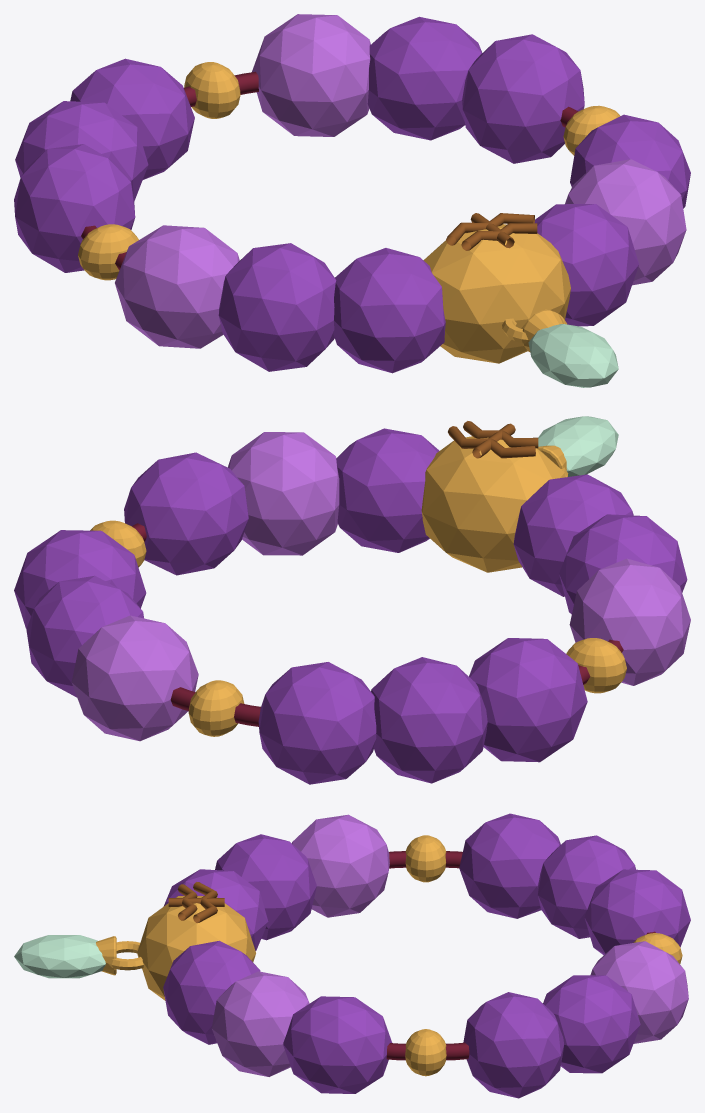
Rendered from bracelet.glb.
The picture shows the model from 3 angles, top to bottom: view 1: azimuth 30°, elevation 25°; view 2: azimuth 150°, elevation 25°; view 3: azimuth 270°, elevation 25°; orthographic projection. The views are drawn at different scales.
Visible parts, largest first — view 1: bead-system, spacer-system, pale-jade-charm, focal-cloud-relief, elastic-cord, charm-cap; view 2: bead-system, spacer-system, pale-jade-charm, focal-cloud-relief, elastic-cord; view 3: bead-system, spacer-system, pale-jade-charm, focal-cloud-relief, elastic-cord, charm-loop, charm-cap.
Part boxes in pixels (bbox=[...]): bead-system: bbox=[14, 14, 690, 373]; spacer-system: bbox=[78, 62, 620, 280]; pale-jade-charm: bbox=[528, 324, 618, 387]; focal-cloud-relief: bbox=[446, 213, 537, 250]; elastic-cord: bbox=[81, 71, 578, 270]; charm-cap: bbox=[522, 310, 564, 351]; bead-system: bbox=[14, 428, 690, 784]; spacer-system: bbox=[90, 520, 626, 736]; pale-jade-charm: bbox=[538, 416, 618, 476]; focal-cloud-relief: bbox=[448, 421, 538, 458]; elastic-cord: bbox=[132, 523, 623, 726]; bead-system: bbox=[137, 813, 690, 1098]; spacer-system: bbox=[405, 835, 682, 1076]; pale-jade-charm: bbox=[14, 935, 105, 978]; focal-cloud-relief: bbox=[168, 882, 224, 923]; elastic-cord: bbox=[386, 851, 655, 1060]; charm-loop: bbox=[108, 941, 143, 970]; charm-cap: bbox=[96, 936, 116, 975].
Size of the model in its own units: 0.7817 by 0.1756 by 1.
